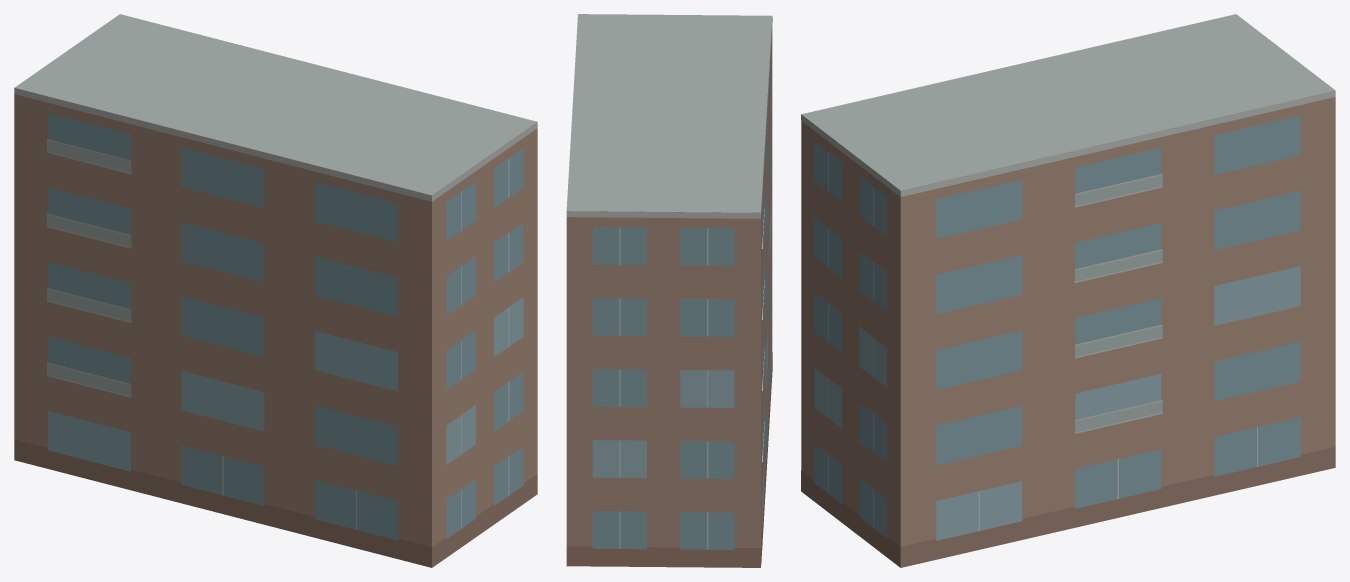
Rendered from survey-upis-32767686.glb.
3 views of the same model, side by side, from view 1: azimuth 30°, elevation 25°; view 2: azimuth 150°, elevation 25°; view 3: azimuth 270°, elevation 25° (orthographic). The views are drawn at different scales.
Visible parts, largest first — view 1: survey-upis-32767686.tmp; view 2: survey-upis-32767686.tmp; view 3: survey-upis-32767686.tmp.
Part boxes in pixels (x1,y1,x2,y2): survey-upis-32767686.tmp: (14, 14, 537, 567); survey-upis-32767686.tmp: (566, 14, 772, 567); survey-upis-32767686.tmp: (801, 14, 1335, 567).
Bounding box in the file's own units: 14.48 × 14.4 × 18.51.
